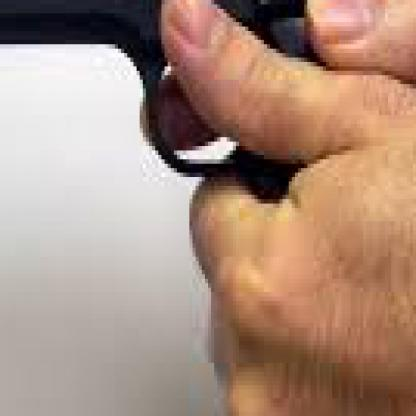gun: (0, 0, 413, 310)
